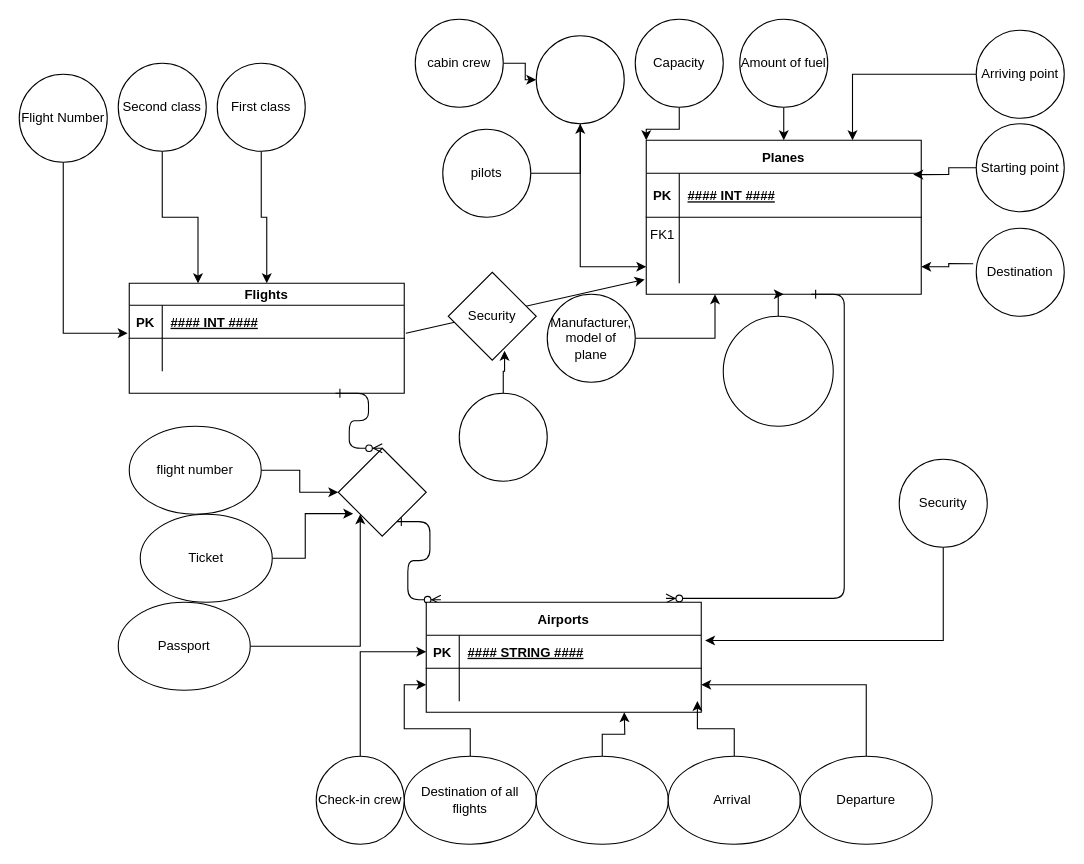
Image size: 1084x864. Some labels were removed from this diagram. The shapes that lost their labels are listed below. From the top down, each one's centre as x and y in pixels, then its label:
the point at 579,79: Crew
the point at 777,370: Airline that owns the plane
the point at 502,436: x-ray
the point at 381,491: Check-in
the point at 601,799: Gates they take off from
